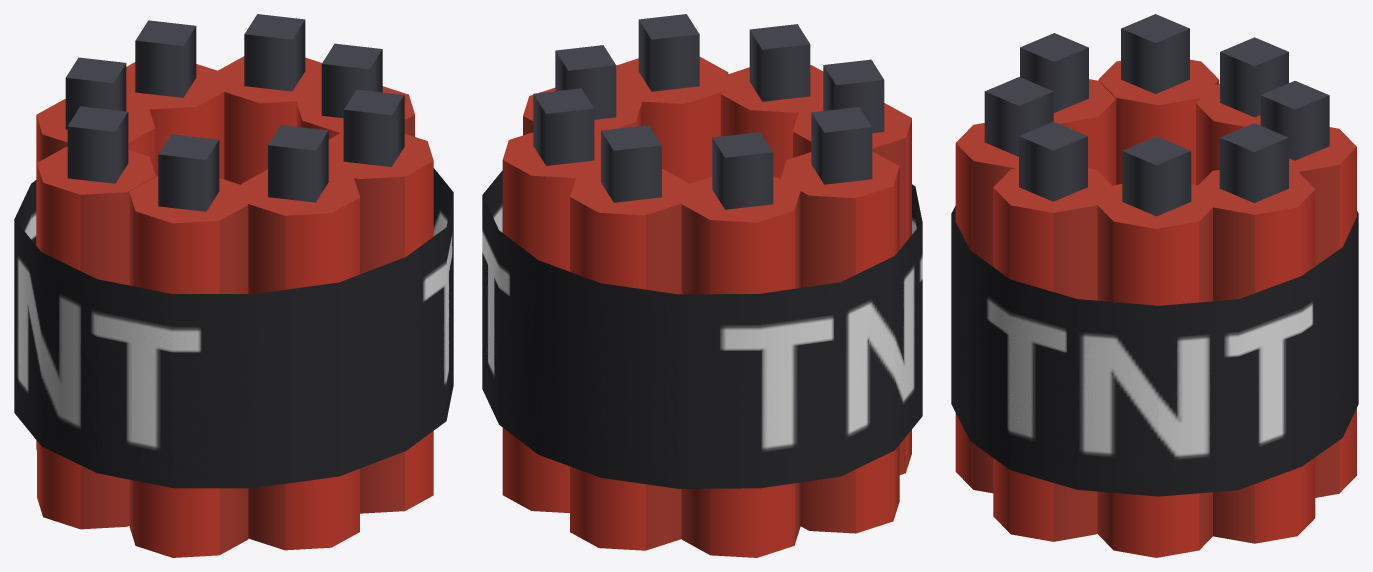
File: TNT.FBX
The picture shows the model from 3 angles, left to right: view 1: azimuth 30°, elevation 25°; view 2: azimuth 150°, elevation 25°; view 3: azimuth 270°, elevation 25°; orthographic projection.
Visible parts, largest first — view 1: TNT; view 2: TNT; view 3: TNT.
Boxes of the visible parts, <box> form: TNT: <box>14,14,453,557</box>; TNT: <box>482,14,922,557</box>; TNT: <box>951,14,1358,557</box>.
Bounding box in the file's own units: 24.72 × 23.73 × 23.04.
